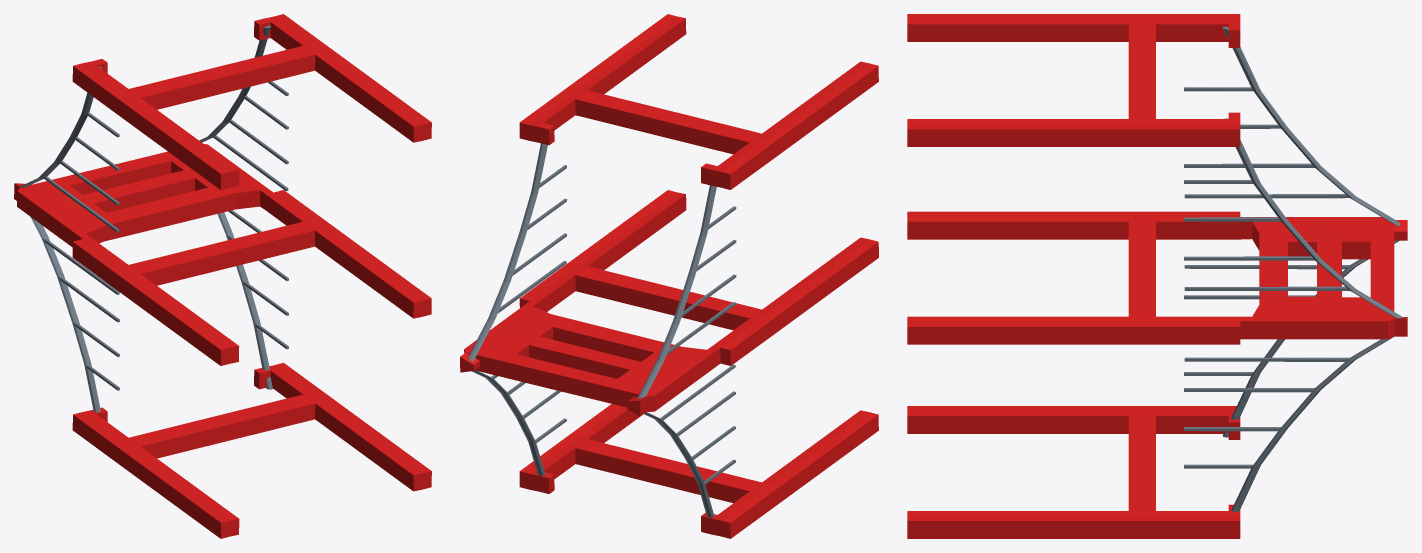
File: bridge-suspended-full.obj
The picture shows the model from 3 angles, left to right: view 1: azimuth 30°, elevation 25°; view 2: azimuth 150°, elevation 25°; view 3: azimuth 270°, elevation 25°; orthographic projection. The views are drawn at different scales.
Parts seen in each view (by area): view 1: bridge-suspended-full_Circle.025; view 2: bridge-suspended-full_Circle.025; view 3: bridge-suspended-full_Circle.025.
Part boxes in pixels (x1,y1,x2,y2): bridge-suspended-full_Circle.025: (14, 14, 431, 538); bridge-suspended-full_Circle.025: (460, 14, 878, 538); bridge-suspended-full_Circle.025: (907, 14, 1407, 538).
Size of the model in its own units: 9.69 by 16.03 by 17.7.
